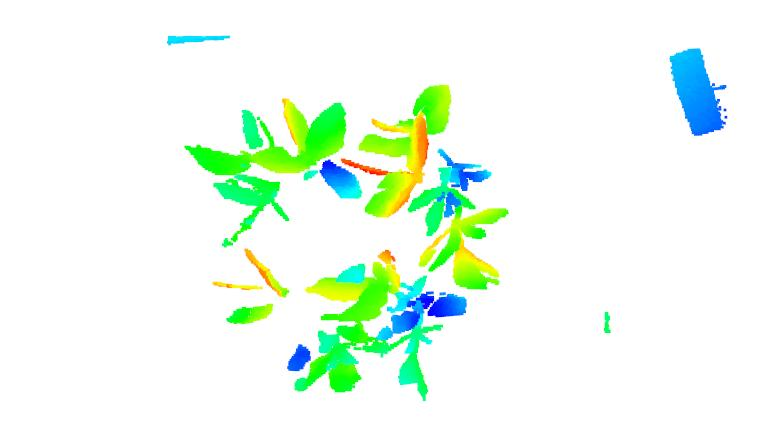mungbean: (356, 82, 509, 297), (182, 92, 365, 247), (222, 244, 377, 394), (368, 240, 470, 400)
